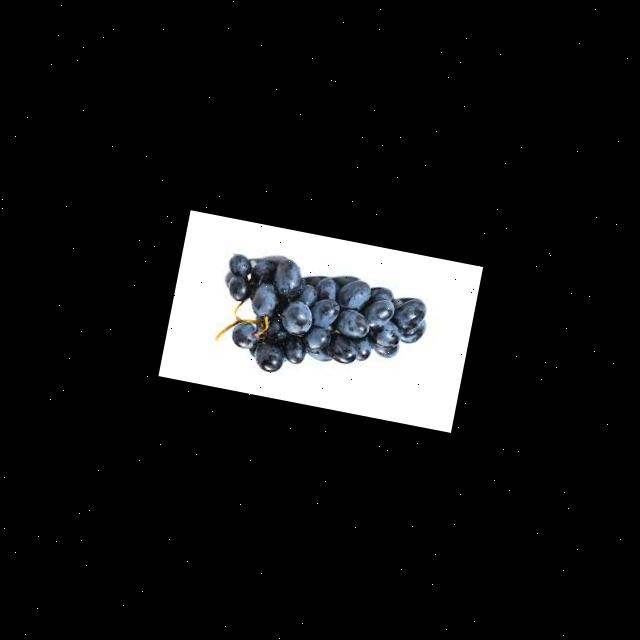grape: (208, 248, 434, 399)
